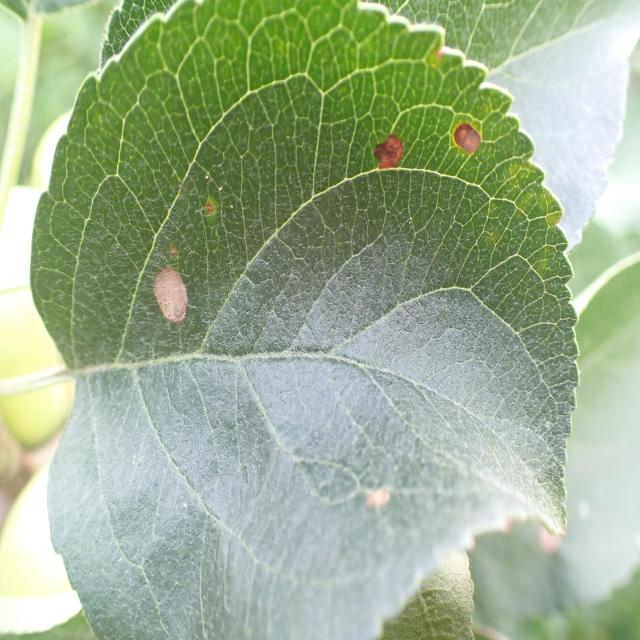Black Rot: (134, 247, 213, 351), (442, 107, 487, 181), (372, 116, 405, 190), (361, 473, 401, 534), (199, 193, 227, 236)
